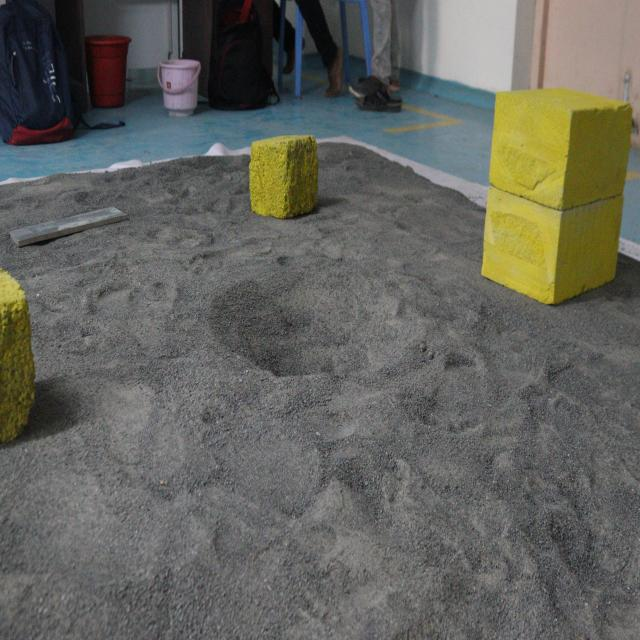box: (482, 80, 624, 311), (246, 127, 320, 226)
crater: (204, 263, 421, 396)
